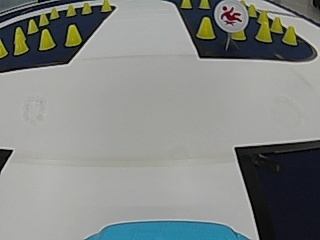cone: (255, 14, 271, 43), (196, 17, 215, 39), (13, 27, 26, 55), (65, 24, 81, 46), (38, 29, 54, 50), (282, 25, 297, 46), (271, 16, 282, 33), (27, 18, 37, 34), (49, 6, 59, 20), (66, 3, 76, 17), (247, 3, 257, 17), (82, 2, 92, 15), (0, 40, 7, 58), (101, 0, 111, 12), (39, 13, 48, 26), (199, 0, 210, 9), (180, 0, 191, 9)
tumble: (218, 2, 246, 29)
